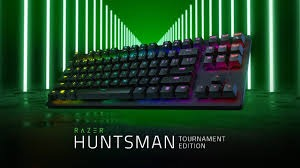keyboard: (4, 11, 292, 115)
